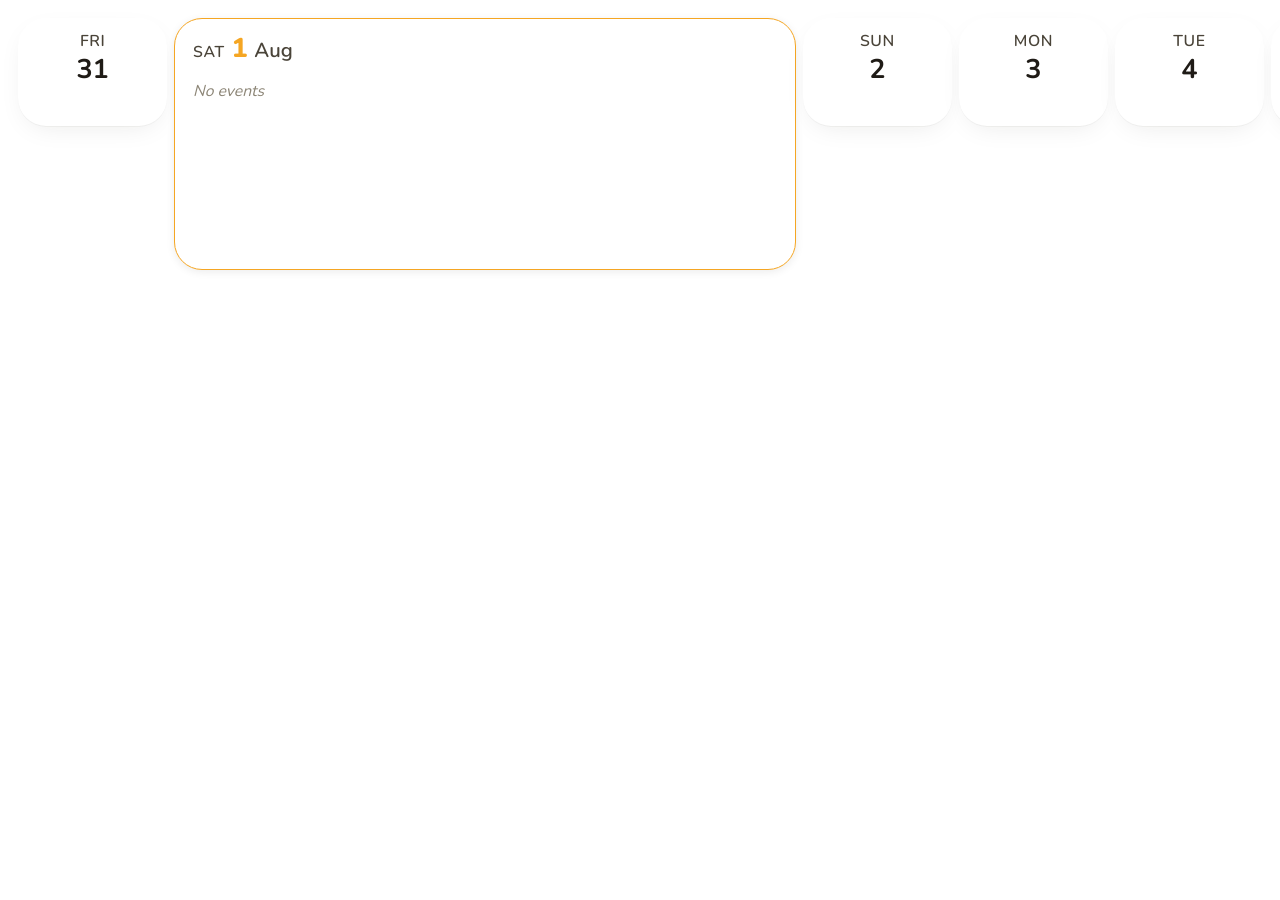
Test case: DayCarousel › clicking focal card opens day view modal
Click the button "Sat 1 Aug No events" at coordinates (485, 144), box [174,18,796,270]
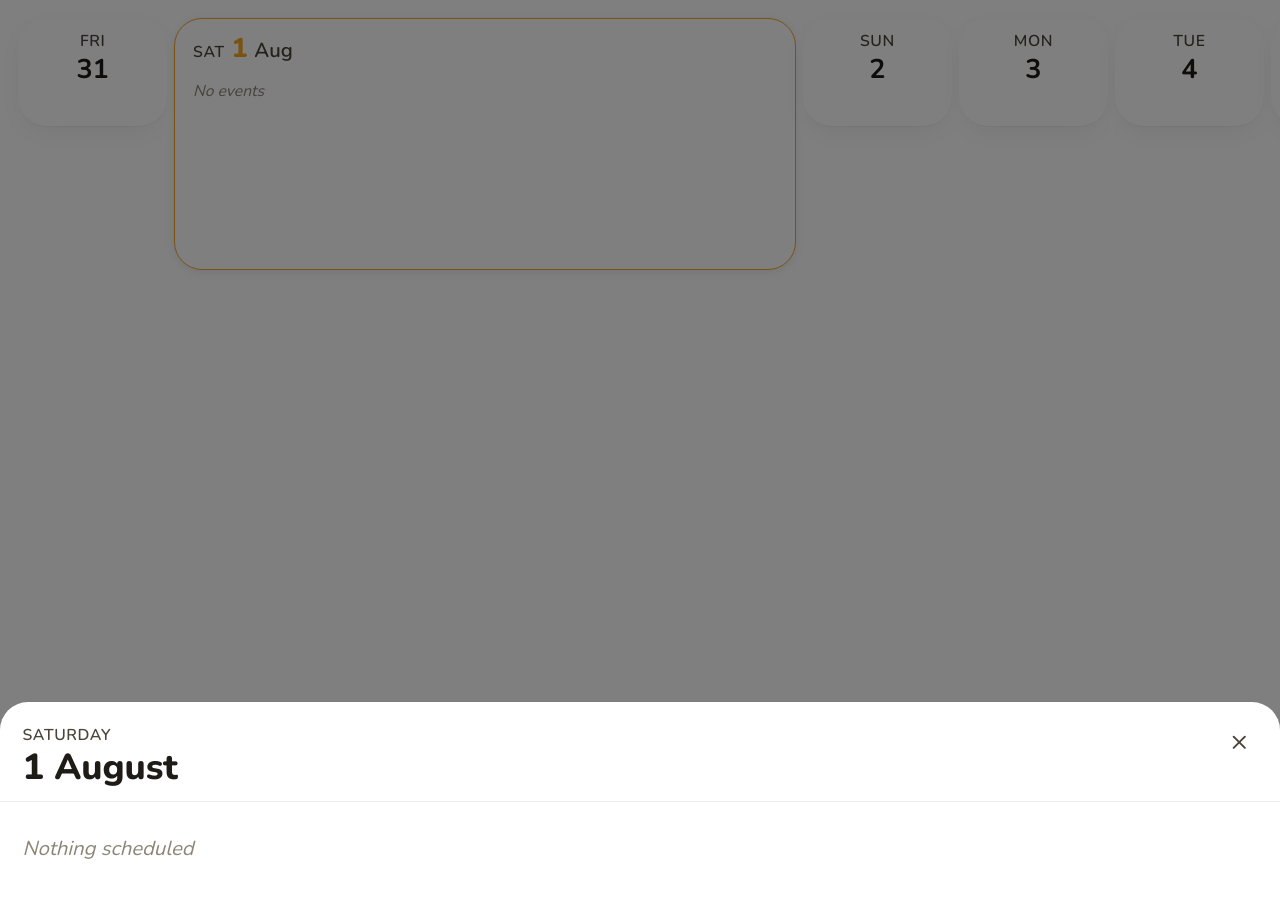
Result: the dialog is shown at [0,702,1279,899]
